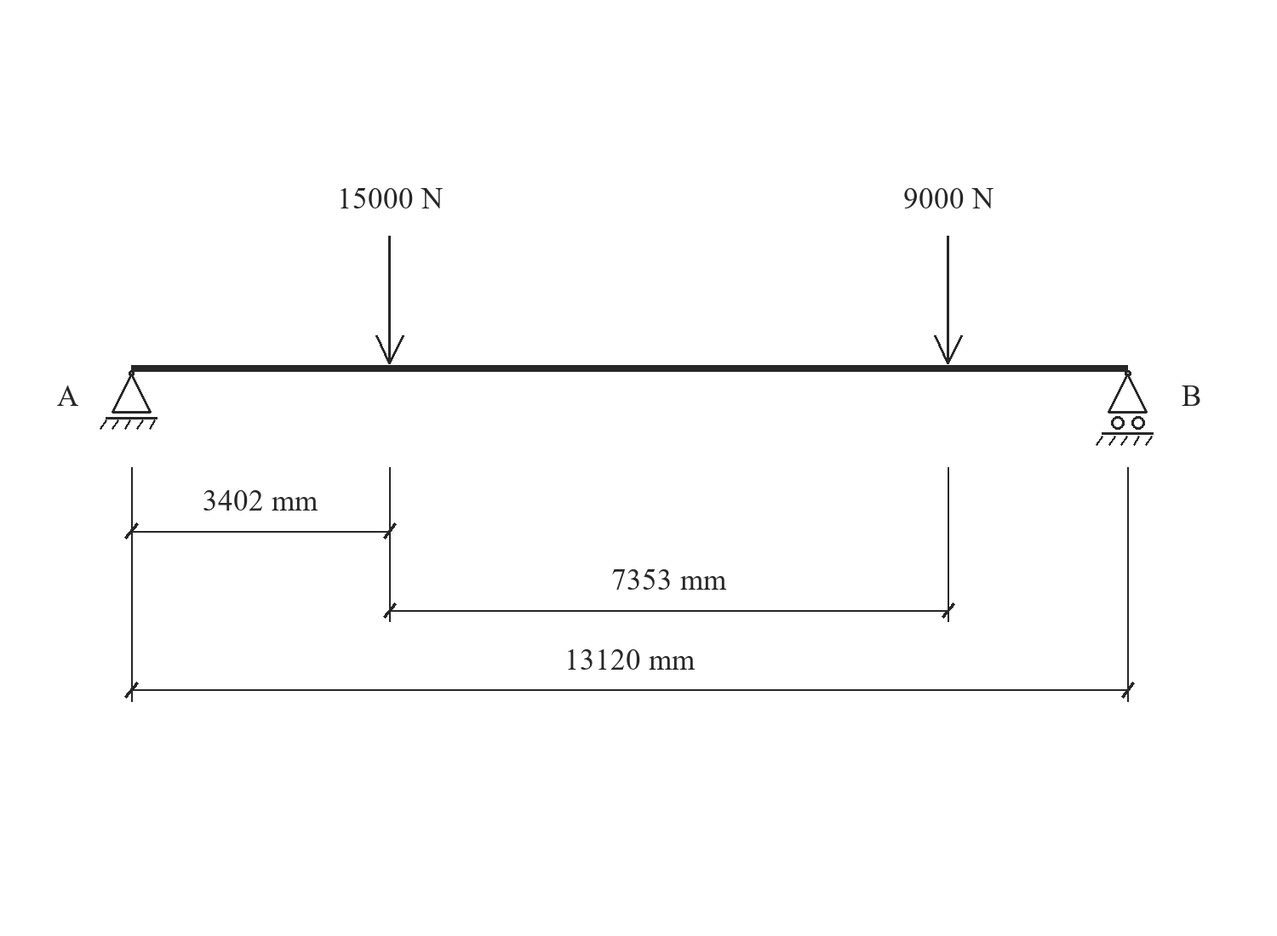pin_support: (100, 370, 157, 430)
point_load: (375, 236, 404, 364), (934, 236, 963, 364)
roller_support: (1096, 370, 1154, 446)
